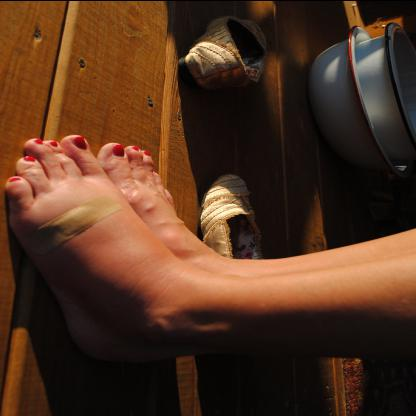Wasp: (45, 228, 192, 326)
